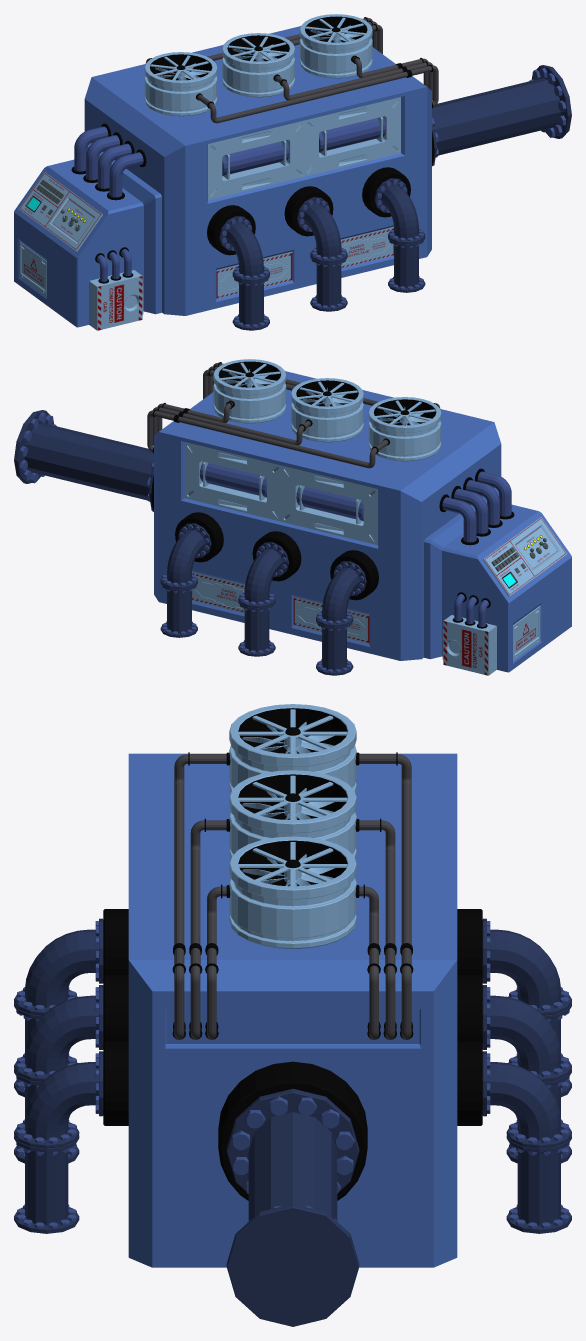
File: M2_Style_B_Light.fbx
The picture shows the model from 3 angles, top to bottom: view 1: azimuth 30°, elevation 25°; view 2: azimuth 150°, elevation 25°; view 3: azimuth 270°, elevation 25°; orthographic projection. The views are drawn at different scales.
Visible parts, largest first — view 1: M2; view 2: M2; view 3: M2.
Boxes of the visible parts, x1,y1,x2,y2 form: M2: [14, 14, 571, 330]; M2: [14, 359, 571, 675]; M2: [14, 704, 571, 1326].
Size of the model in its own units: 945 by 365 by 514.
